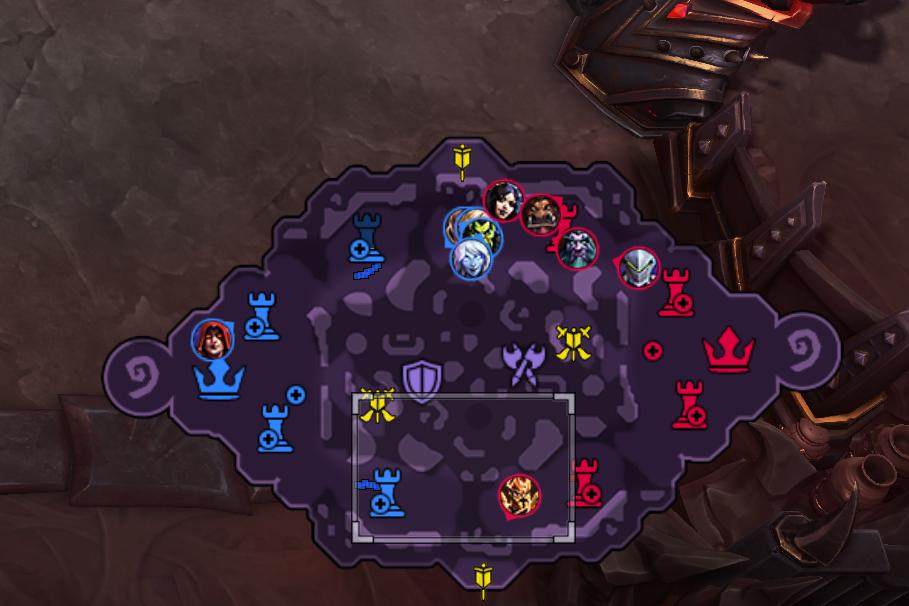blue nexus: (191, 357, 246, 400)
blue player: (457, 213, 503, 258), (450, 237, 492, 281), (443, 206, 484, 249), (192, 319, 233, 361)
blue tower: (347, 210, 386, 280), (357, 465, 406, 518), (242, 289, 281, 341), (255, 402, 294, 453)
red nexus: (700, 324, 757, 374)
red player: (497, 473, 542, 519), (518, 192, 563, 238), (617, 245, 660, 290), (482, 179, 524, 223), (556, 228, 598, 270), (523, 209, 559, 238)
red tower: (655, 266, 698, 320), (669, 377, 709, 433), (567, 457, 607, 507)
